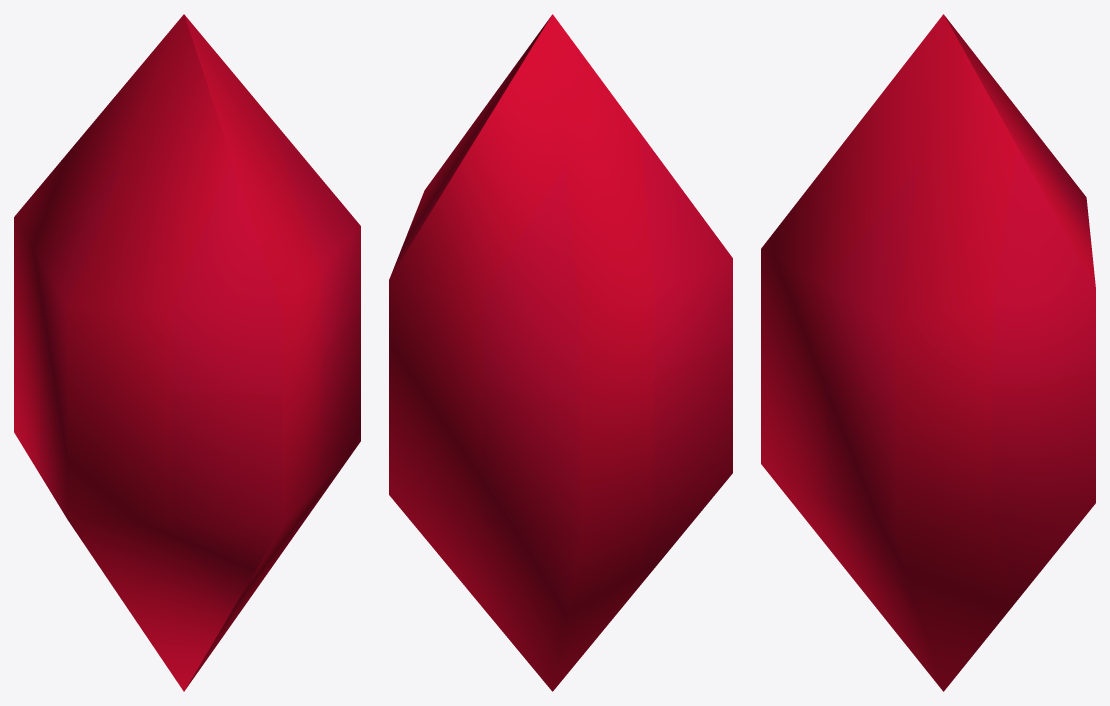
Rendered from INST_COURAGEPOINT_5.obj.
3 views of the same model, side by side, from view 1: azimuth 30°, elevation 25°; view 2: azimuth 150°, elevation 25°; view 3: azimuth 270°, elevation 25° (orthographic).
Parts seen in each view (by area): view 1: CouragePoint_5; view 2: CouragePoint_5; view 3: CouragePoint_5.
Part boxes in pixels (box(x1,y1,x2,y2)): CouragePoint_5: box(14, 14, 360, 691); CouragePoint_5: box(389, 14, 732, 691); CouragePoint_5: box(761, 14, 1095, 691).
Size of the model in its own units: 23.05 by 49.67 by 22.24.
